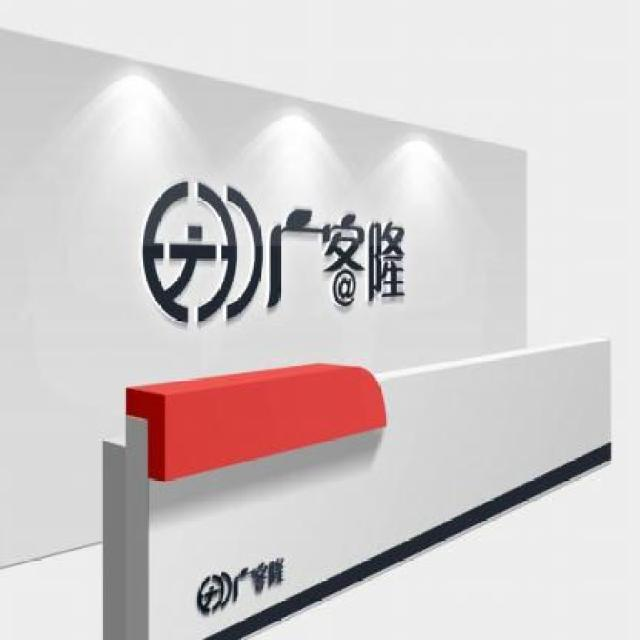frontdesk: (92, 307, 619, 640)
